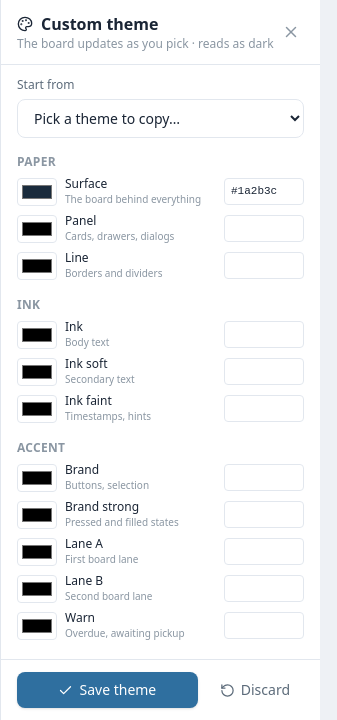
Test: #141: a half-typed value gives way when the colour is changed from the picker
The image size is (337, 720).
Click the field named "Surface hex" at [264, 192], box [224, 178, 304, 205]
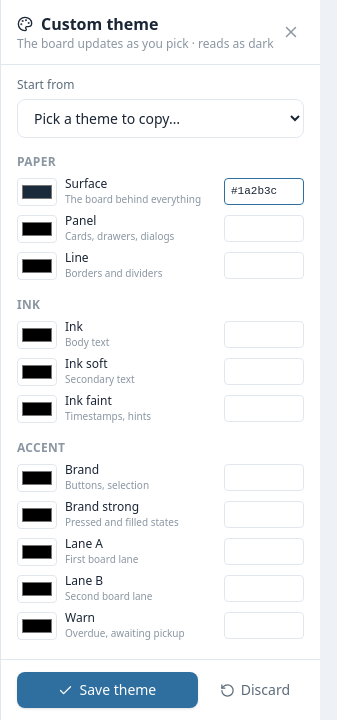
Press End Backspace
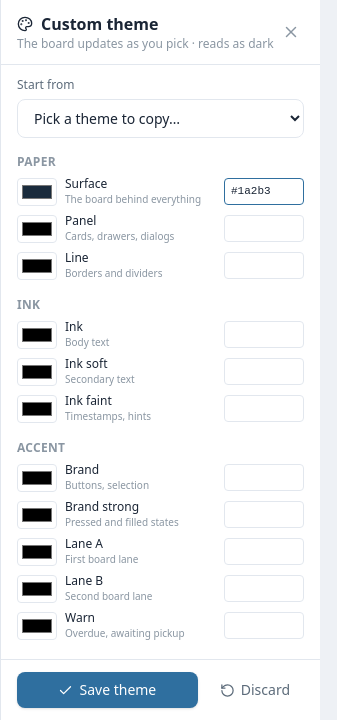
Expected: the field named "Surface hex" holds "#1a2b3", [224, 178, 304, 205]
Type "#445566" into the colour field named "Surface" at [37, 192], box [17, 178, 57, 206]
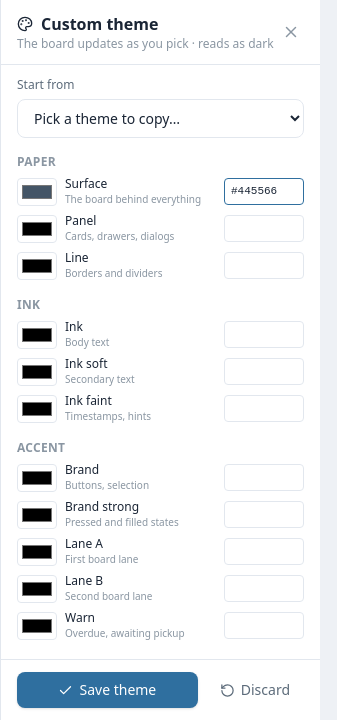
Now the field named "Surface hex" holds "#445566", box [224, 178, 304, 205]
